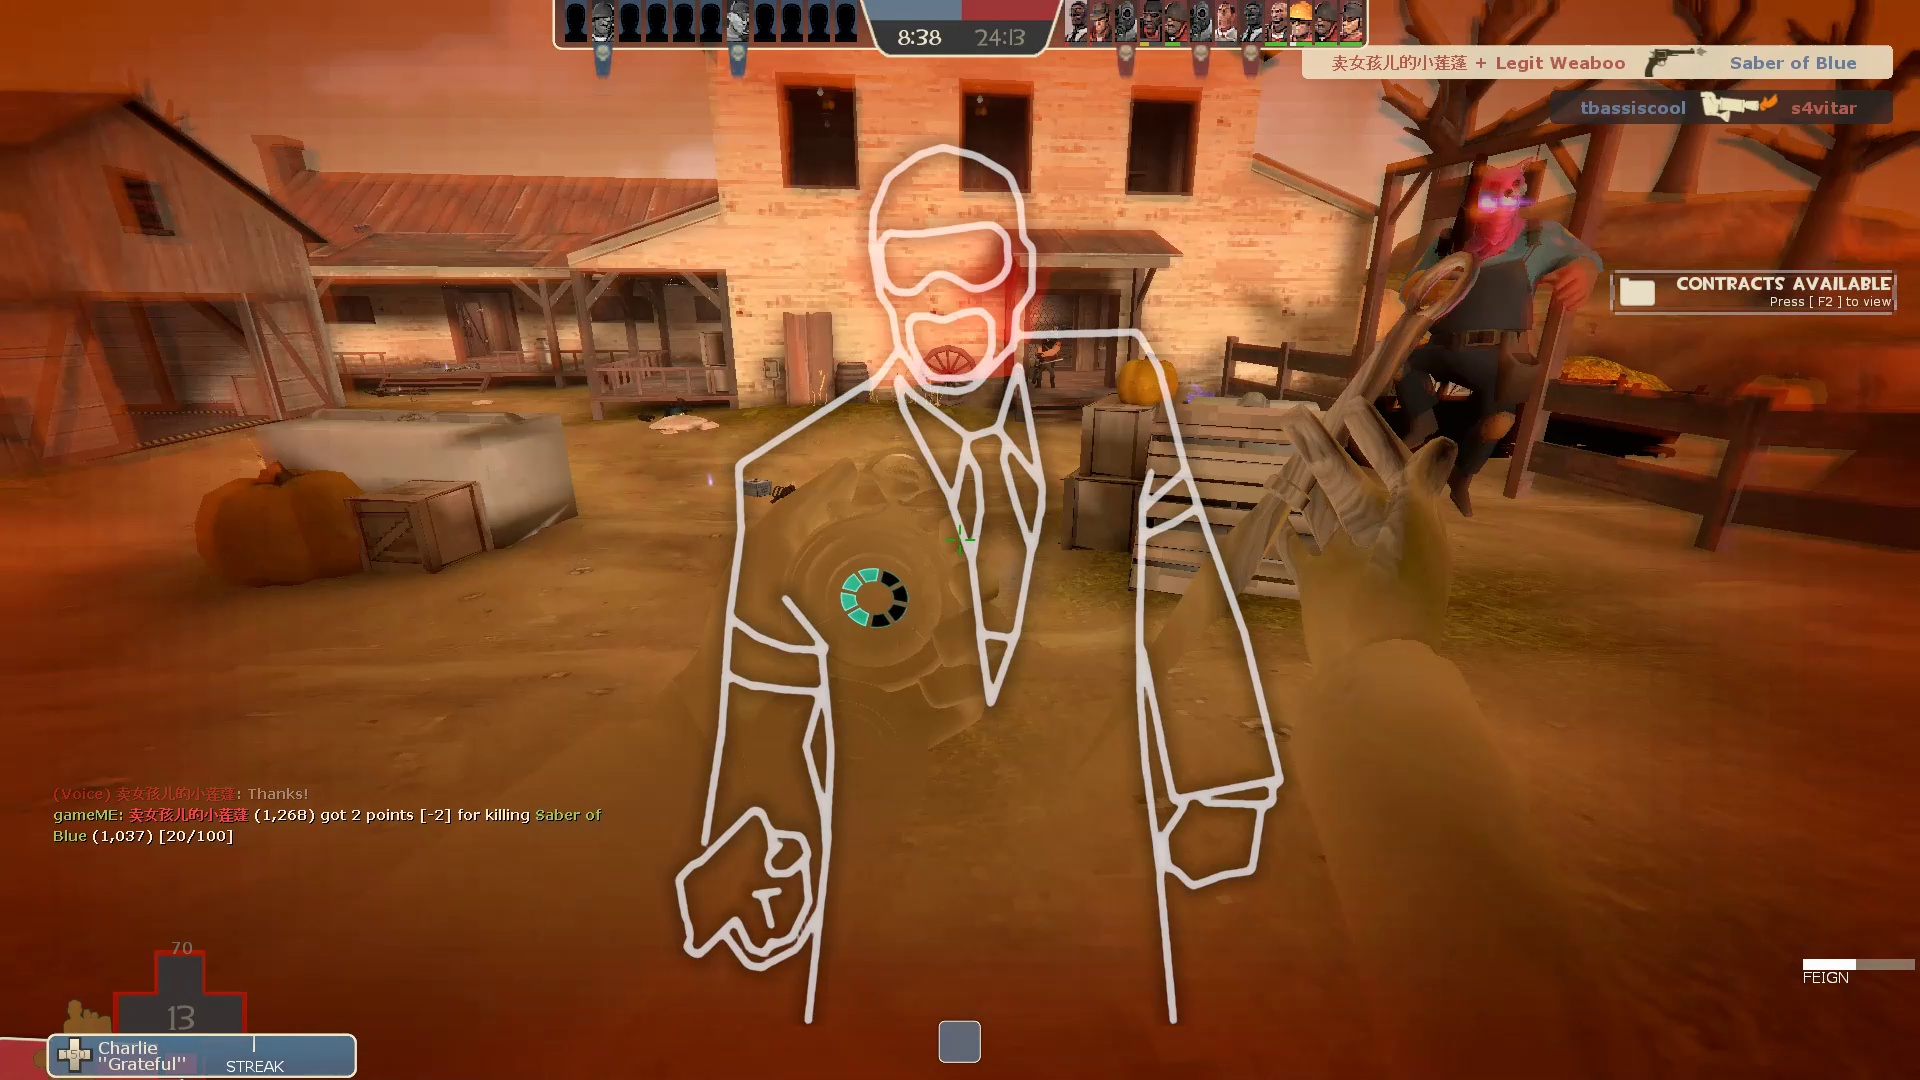blu_engineer: (1329, 135, 1613, 531)
red_heavy: (1023, 324, 1068, 390)
